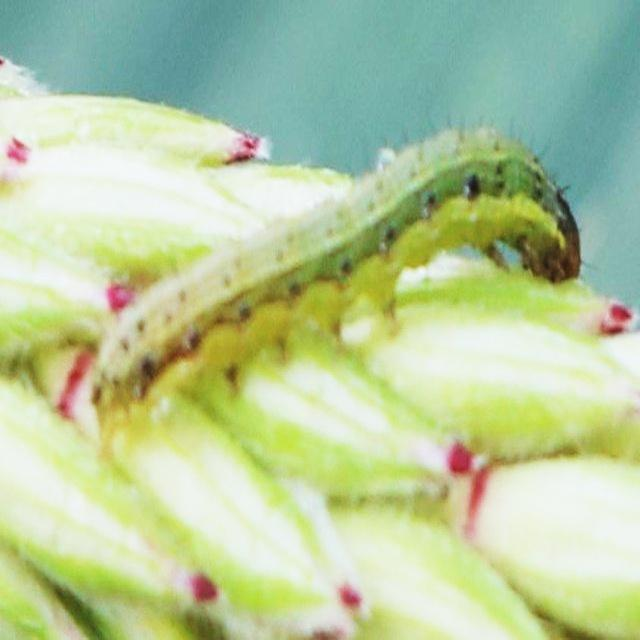worm: (87, 122, 584, 421)
